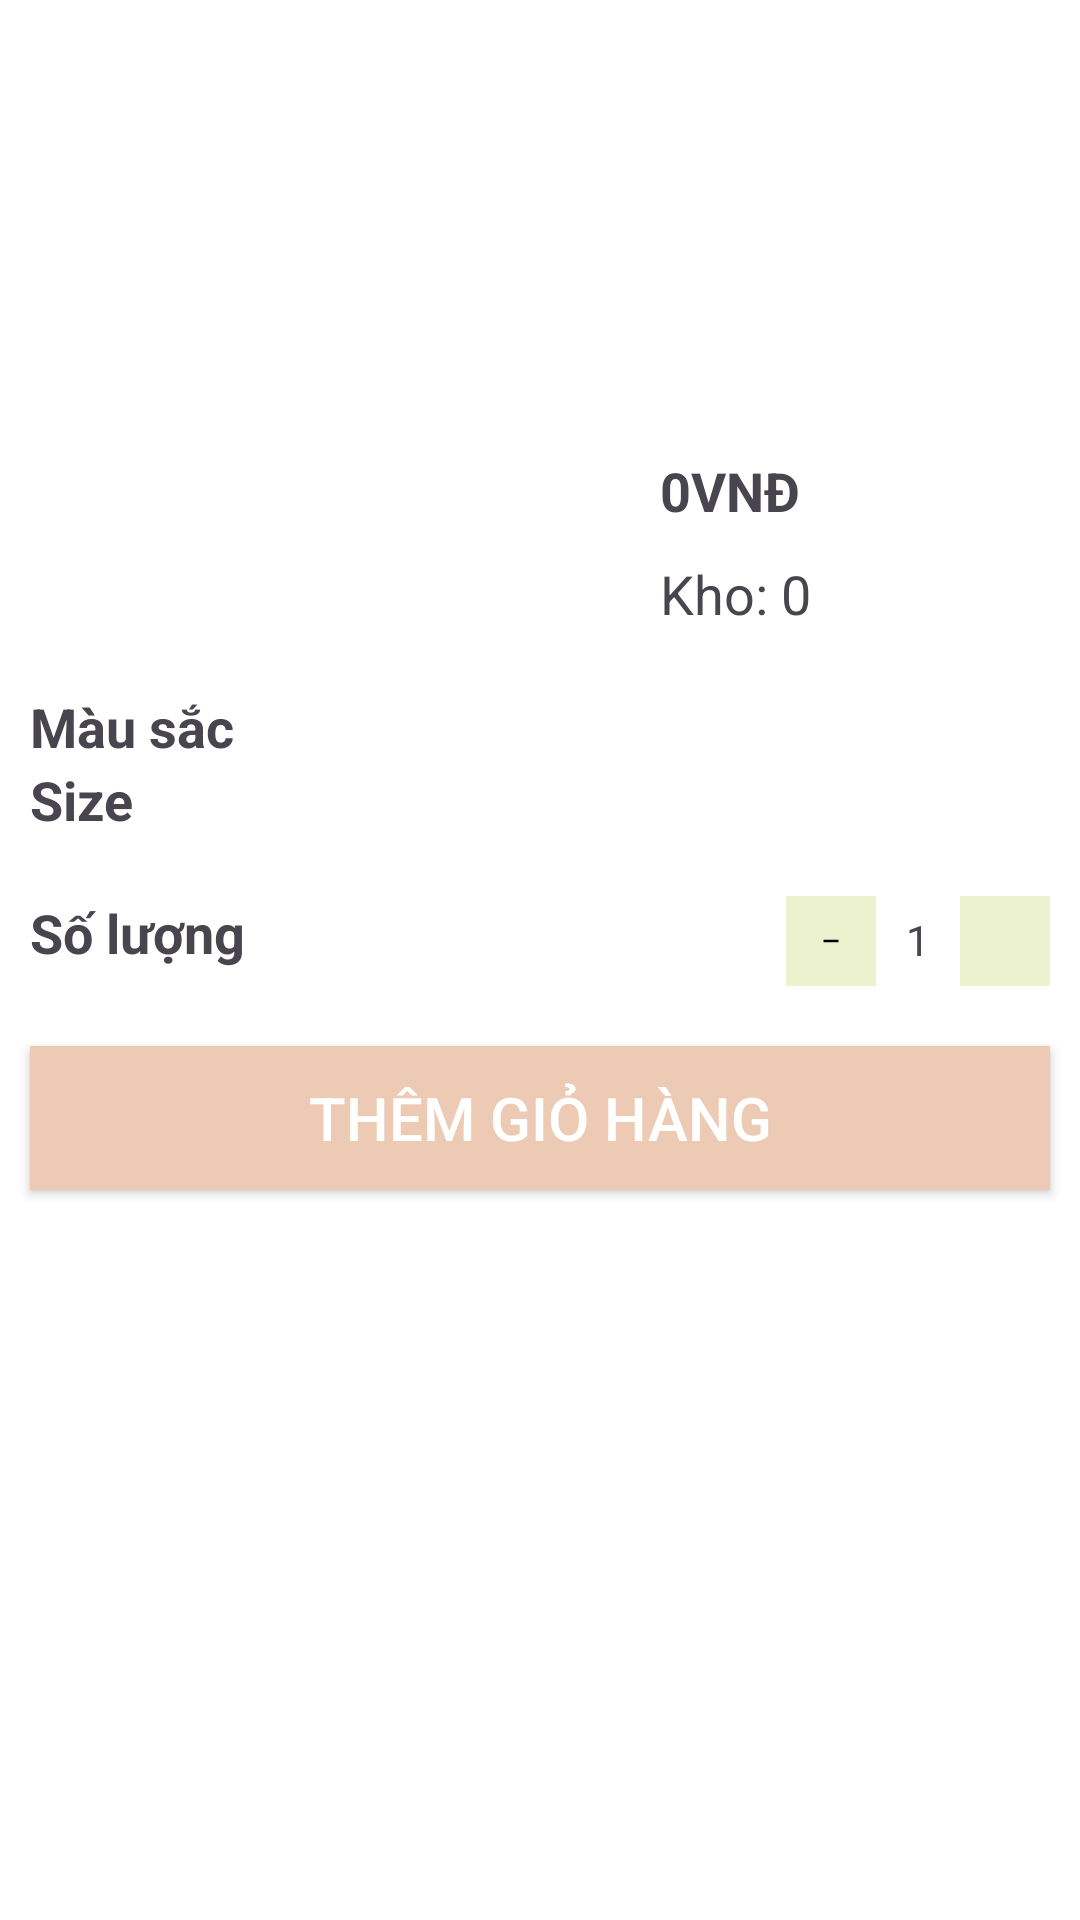

Screen size 1080px x 1920px. Icon name, then its center in pixels as (x=x, y=y):
minimize: (x=831, y=941)
